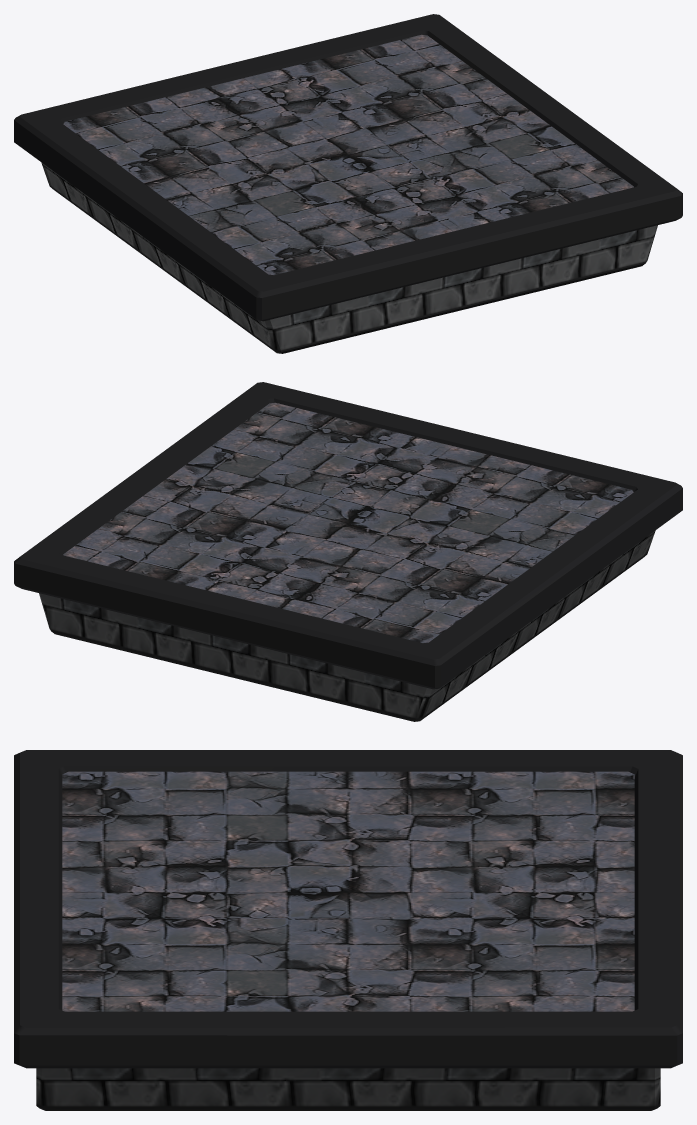
Rendered from M_Platform_3.fbx.
3 renders of one model, top to bottom at view 1: azimuth 30°, elevation 25°; view 2: azimuth 150°, elevation 25°; view 3: azimuth 270°, elevation 25°, orthographic. The views are drawn at different scales.
Visible parts, largest first — view 1: M_Platform_3; view 2: M_Platform_3; view 3: M_Platform_3.
Part boxes in pixels (box(x1,y1,x2,y2)): M_Platform_3: box(14, 14, 682, 353); M_Platform_3: box(14, 382, 682, 721); M_Platform_3: box(14, 750, 682, 1110).
Bounding box in the file's own units: 300 × 49.7 × 300.
